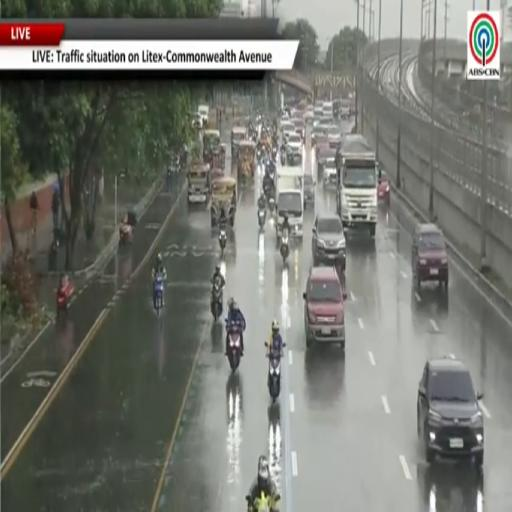car: (417, 356, 483, 467), (303, 267, 345, 349), (412, 223, 448, 291), (312, 214, 345, 270), (286, 133, 302, 165), (317, 144, 335, 172), (315, 135, 329, 170), (378, 165, 389, 205), (303, 173, 315, 209), (323, 156, 336, 187), (327, 125, 342, 148), (287, 133, 302, 155), (312, 126, 325, 145), (198, 105, 209, 126), (295, 120, 305, 140), (280, 121, 294, 135), (303, 106, 314, 123), (283, 128, 295, 142), (192, 114, 202, 130), (319, 117, 332, 129), (280, 114, 289, 123)
jeepney: (211, 176, 236, 227), (188, 163, 211, 203), (238, 141, 255, 181), (203, 130, 220, 163), (231, 126, 247, 158), (210, 148, 221, 168), (211, 168, 224, 183), (220, 143, 227, 170)
motorcycle: (267, 350, 282, 403), (227, 323, 241, 372), (246, 491, 280, 511), (57, 279, 74, 316), (211, 282, 223, 322), (153, 274, 164, 315), (119, 222, 133, 245), (280, 229, 289, 263), (258, 208, 266, 229), (219, 229, 226, 253), (268, 197, 275, 213), (257, 148, 263, 164), (280, 151, 285, 165)
truck: (337, 144, 378, 236), (276, 167, 303, 244)
